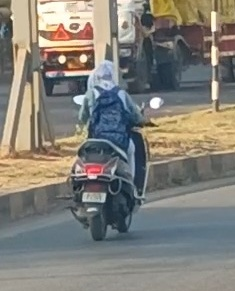BikeWithRider: (51, 60, 168, 242)
NoHelmet: (89, 61, 123, 91)
